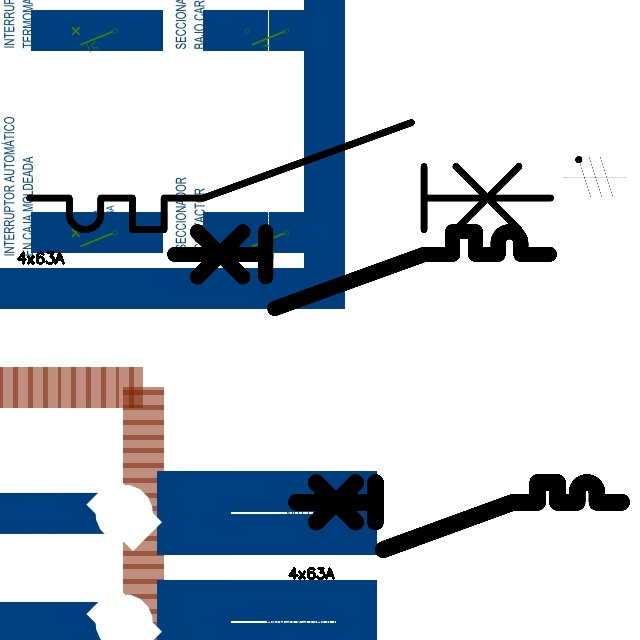interruptor_termomagnetico: (16, 109, 564, 243), (165, 222, 559, 318), (288, 474, 630, 558)
